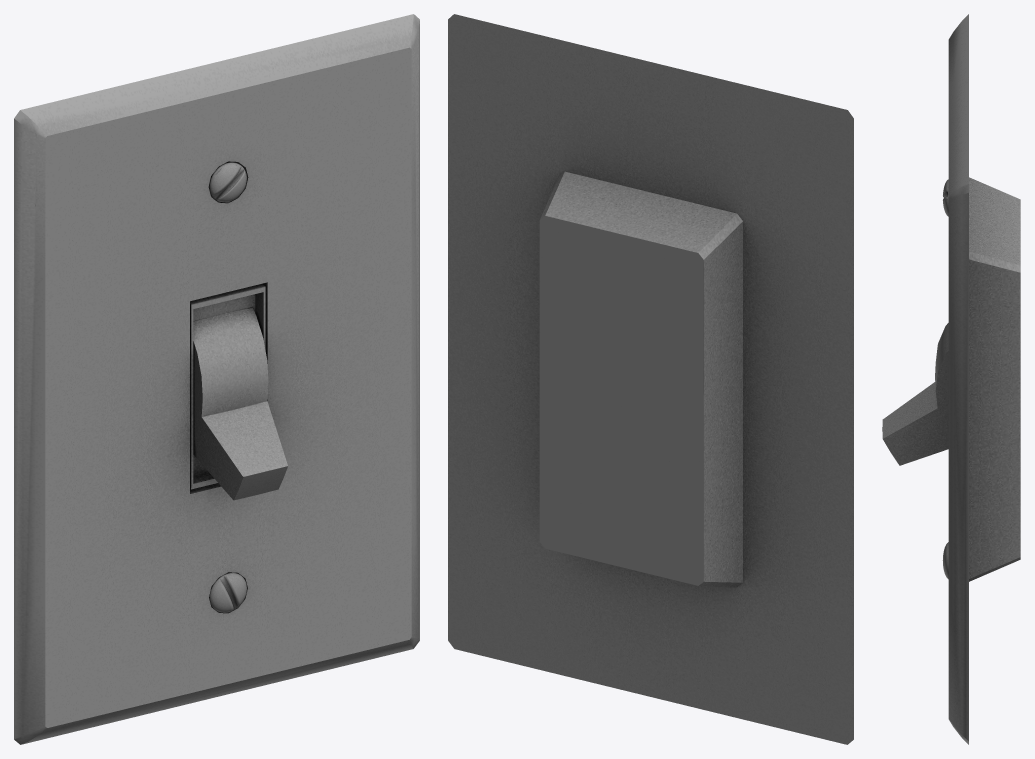
The model's file is switch.fbx.
The picture shows the model from 3 angles, left to right: view 1: azimuth 30°, elevation 25°; view 2: azimuth 150°, elevation 25°; view 3: azimuth 270°, elevation 25°; orthographic projection. The views are drawn at different scales.
Visible parts, largest first — view 1: switchbase_default4, switchbutton_default, screw1_default3, screw2_default2; view 2: switchbase_default4; view 3: switchbase_default4, switchbutton_default.
Part boxes in pixels (box(x1,y1,x2,y2)): switchbase_default4: box(14, 14, 419, 744); switchbutton_default: box(193, 307, 287, 500); screw1_default3: box(209, 162, 246, 202); screw2_default2: box(209, 572, 246, 612); switchbase_default4: box(448, 14, 853, 744); switchbase_default4: box(948, 14, 1020, 744); switchbutton_default: box(882, 323, 948, 465).
Bounding box in the file's own units: 0.1265 × 0.1891 × 0.0422.
Materials: 1 (1 with a texture image).
